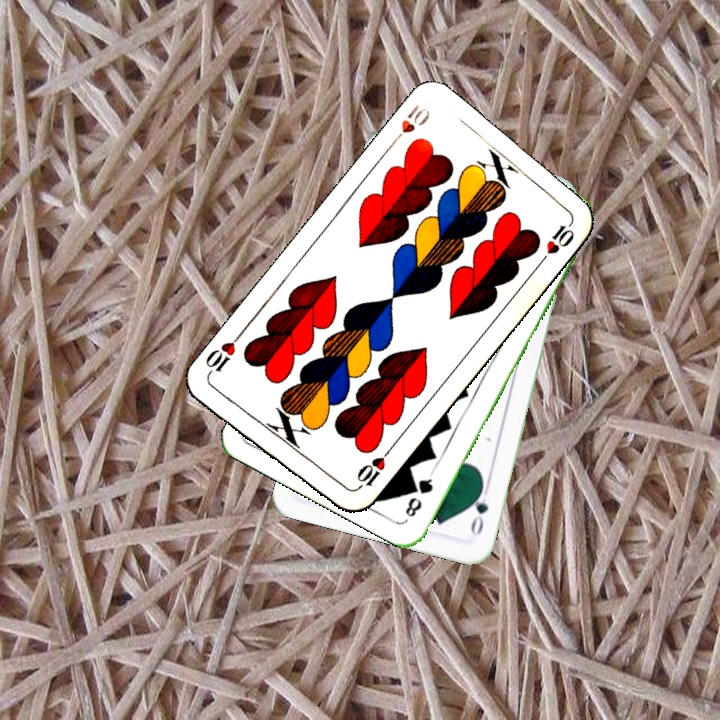G8: (401, 468, 436, 520)
GO: (466, 481, 491, 539)
H10: (386, 100, 433, 150), (350, 445, 393, 494)
